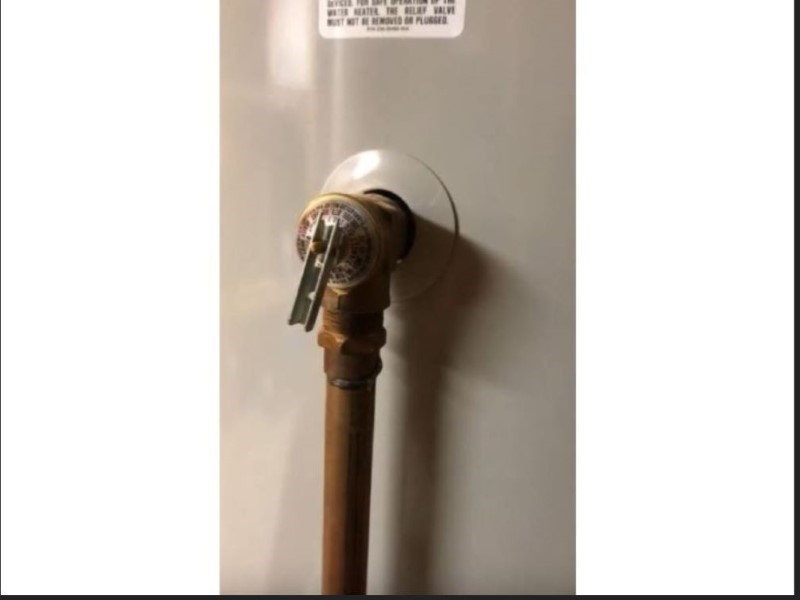Valve: (288, 186, 418, 390)
